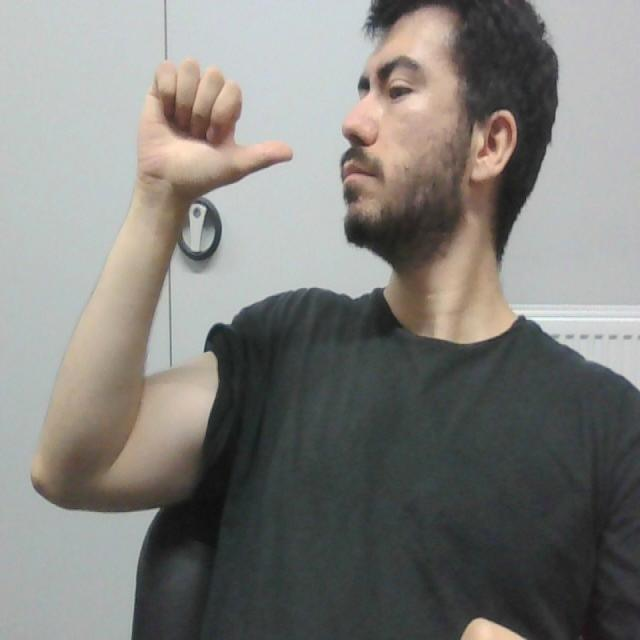icmek: (130, 58, 368, 205)
